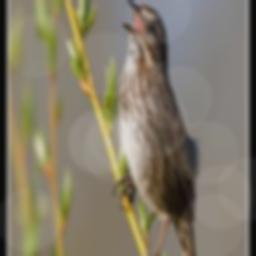Sparrow: (111, 0, 200, 256)
